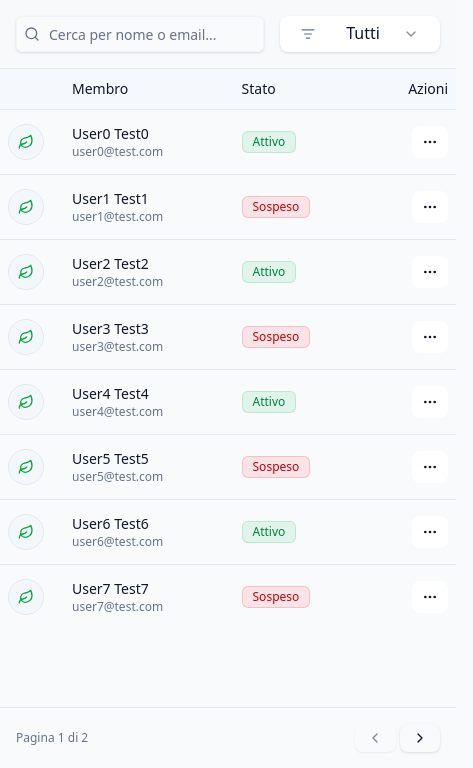
Test case: MembersTable › filters by name
Type "User5" into the field with placeholder "Cerca per nome o email..." at point(140, 34), box x1=16 y1=16 x2=264 y2=52
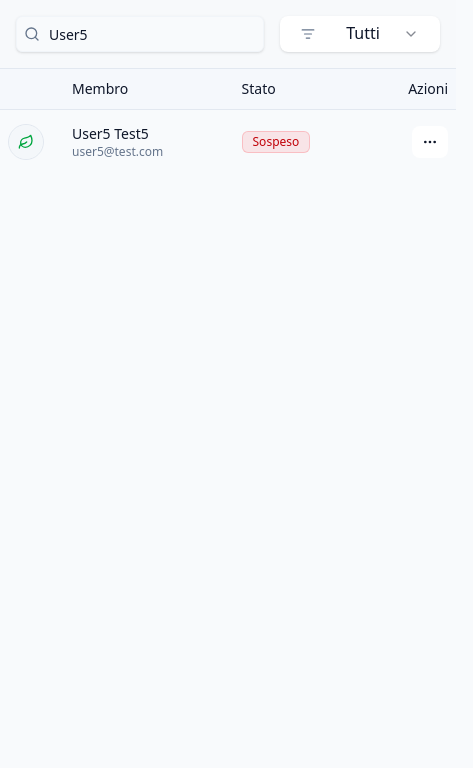
Expected: the text "User5 Test5" is shown, x1=72 y1=124 x2=149 y2=143
Expected: the text "User0 Test0" is gone
